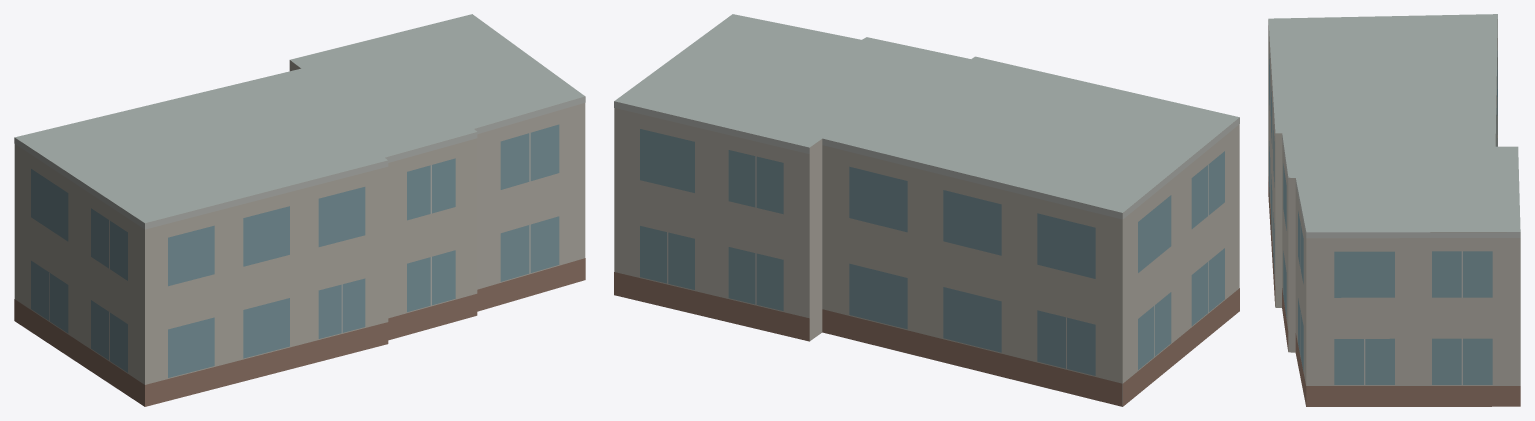
File: survey-upis-32631548.glb
The picture shows the model from 3 angles, left to right: view 1: azimuth 30°, elevation 25°; view 2: azimuth 150°, elevation 25°; view 3: azimuth 270°, elevation 25°; orthographic projection. The views are drawn at different scales.
Visible parts, largest first — view 1: survey-upis-32631548.tmp; view 2: survey-upis-32631548.tmp; view 3: survey-upis-32631548.tmp.
Part boxes in pixels (x1=…): survey-upis-32631548.tmp: x1=14, y1=14, x2=585, y2=406; survey-upis-32631548.tmp: x1=614, y1=14, x2=1239, y2=406; survey-upis-32631548.tmp: x1=1268, y1=14, x2=1520, y2=406.
Size of the model in its own units: 19.04 by 7.1 by 9.3.
